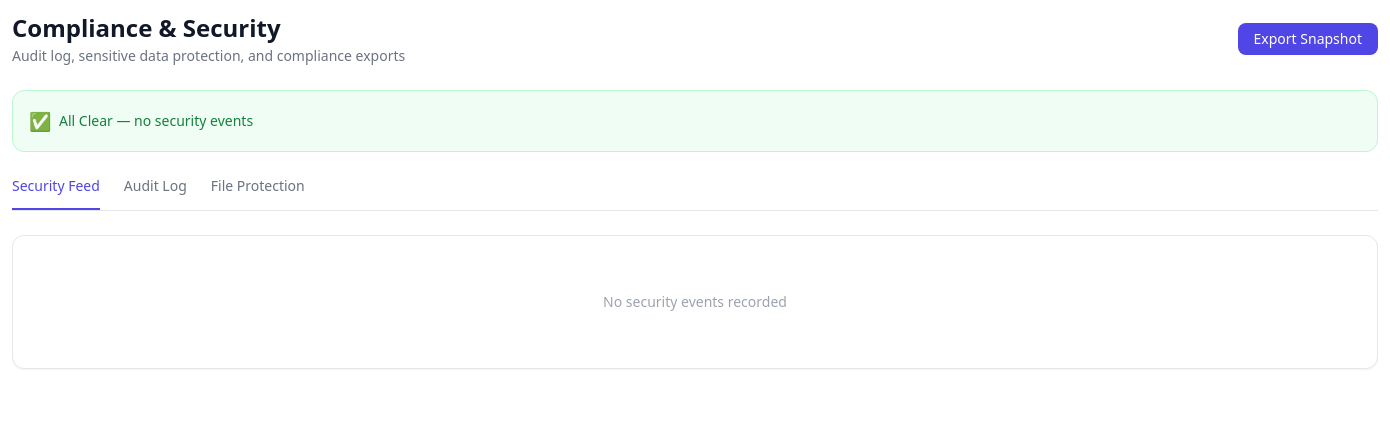
Test: Compliance › switches to File Protection tab and shows patterns
This screenshot has width=1390, height=432.
Click the button "File Protection": click(258, 193) [211,176,305,210]
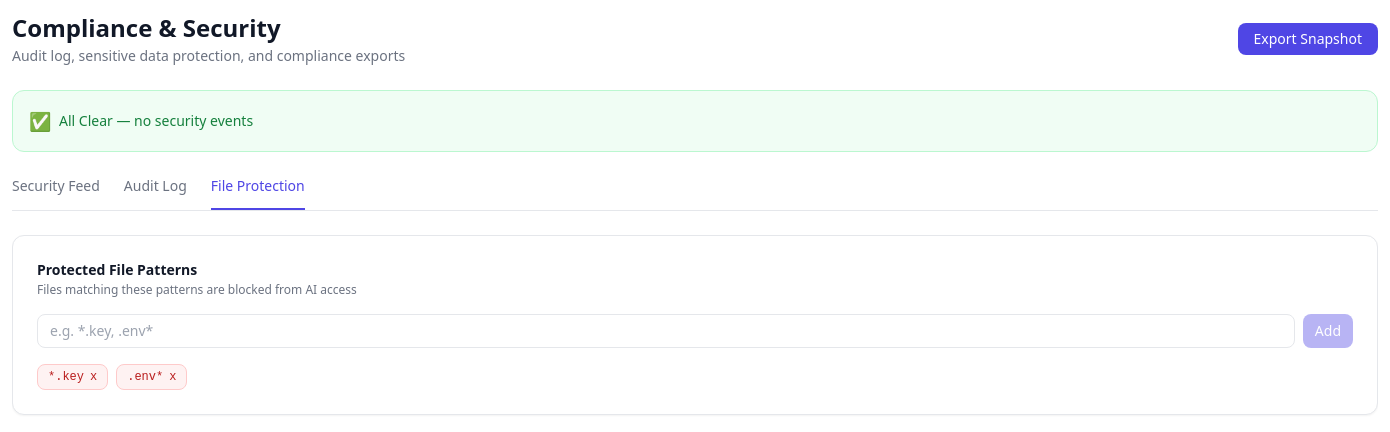
Expected: the heading "Protected File Patterns" is shown, [37,260,197,279]
Expected: the text "*.key" is shown, [48,370,84,384]
Expected: the text ".env*" is shown, [127,370,163,384]
